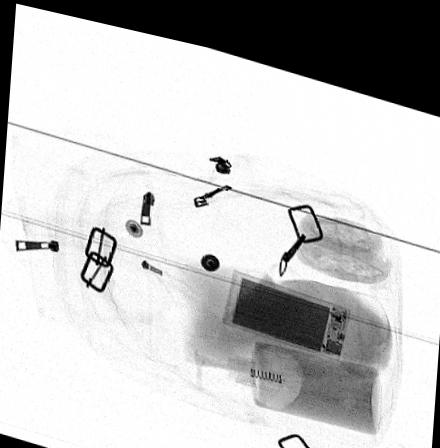Powerbank: (222, 257, 352, 345)
